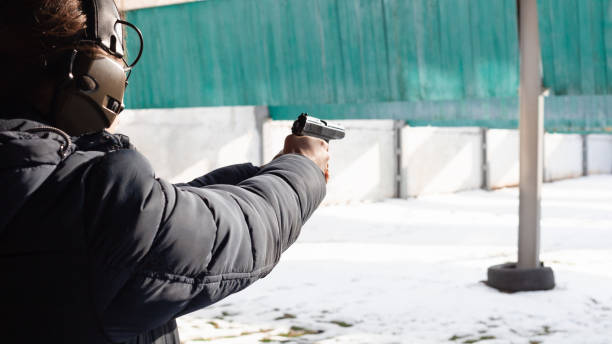gun: (291, 112, 346, 143)
